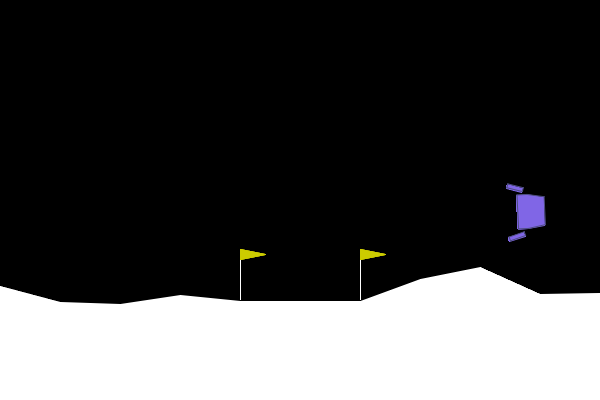lander: (505, 181, 548, 243)
